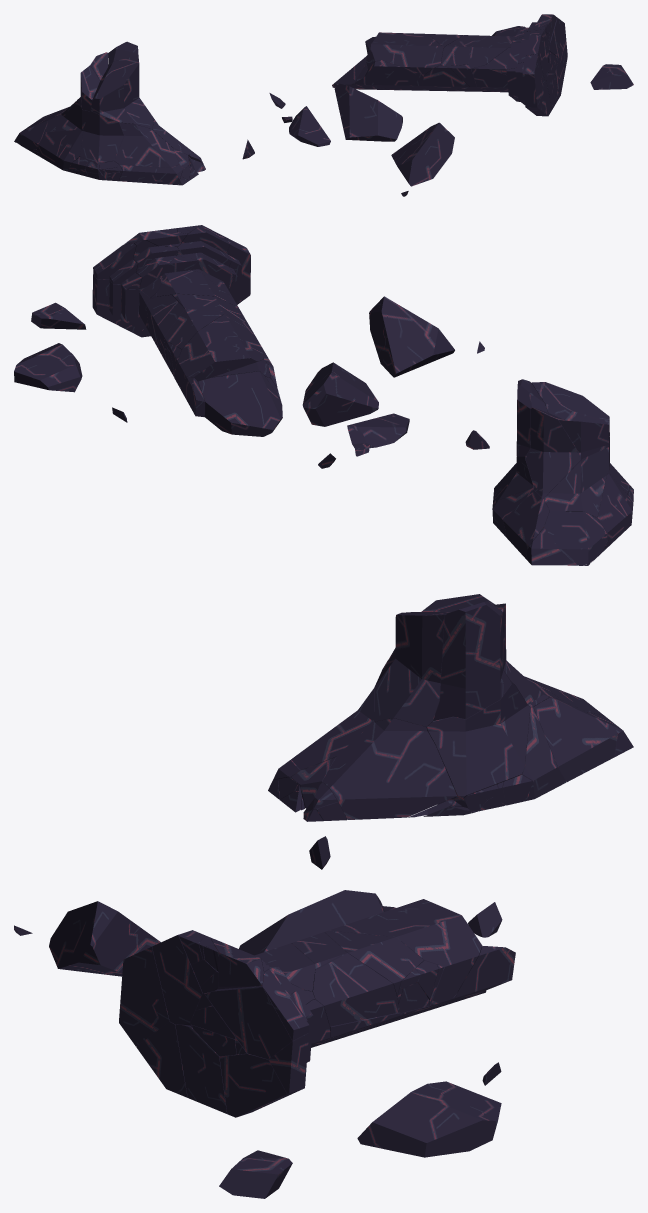
The model's file is PILIER_BRISE.obj.
The picture shows the model from 3 angles, top to bottom: view 1: azimuth 30°, elevation 25°; view 2: azimuth 150°, elevation 25°; view 3: azimuth 270°, elevation 25°; orthographic projection. The views are drawn at different scales.
Parts seen in each view (by area): view 1: PILIER_BRISE; view 2: PILIER_BRISE; view 3: PILIER_BRISE.
Boxes of the visible parts, <box> form: PILIER_BRISE: <box>14,14,633,196</box>; PILIER_BRISE: <box>14,225,633,565</box>; PILIER_BRISE: <box>14,594,633,1198</box>.
Size of the model in its own units: 5.55 by 1.01 by 3.01.
Materials: 1 (1 with a texture image).
